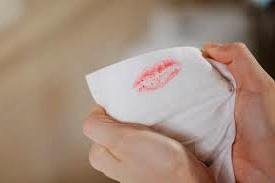lipstick: (131, 57, 184, 100)
